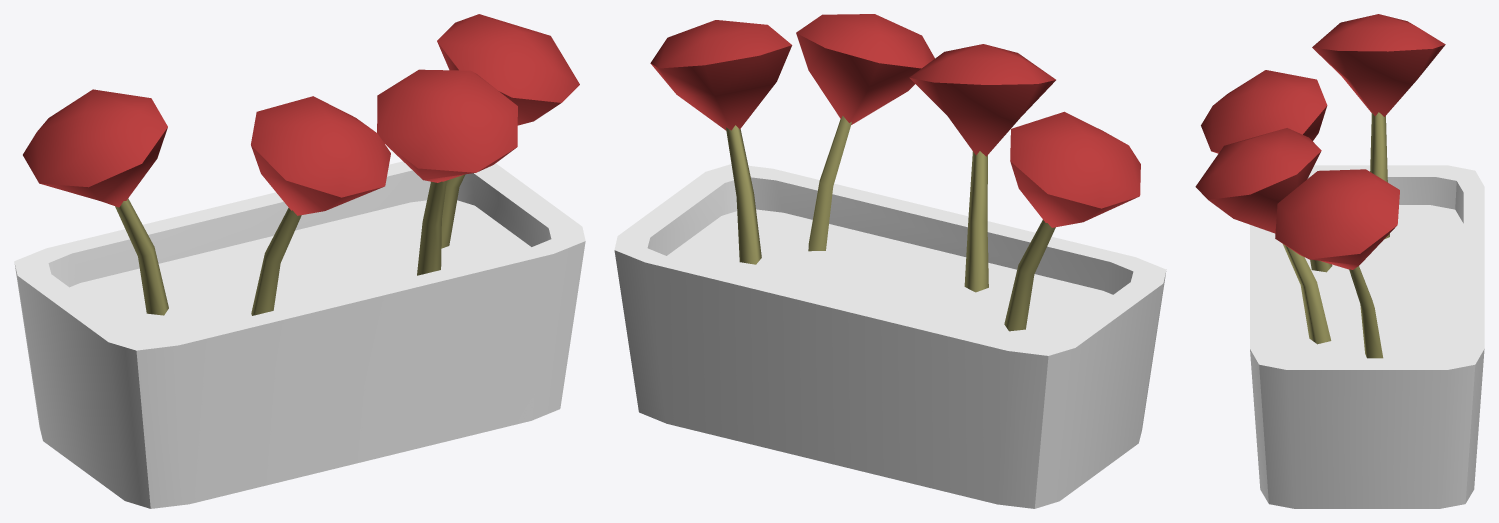
The model's file is SM_flower_box.fbx.
3 views of the same model, side by side, from view 1: azimuth 30°, elevation 25°; view 2: azimuth 150°, elevation 25°; view 3: azimuth 270°, elevation 25° (orthographic). The views are drawn at different scales.
Parts seen in each view (by area): view 1: Box045; view 2: Box045; view 3: Box045.
Part boxes in pixels (x1=…): Box045: x1=14, y1=14, x2=585, y2=508; Box045: x1=614, y1=14, x2=1166, y2=508; Box045: x1=1195, y1=14, x2=1484, y2=508.
Size of the model in its own units: 37.84 by 25.05 by 20.9.
